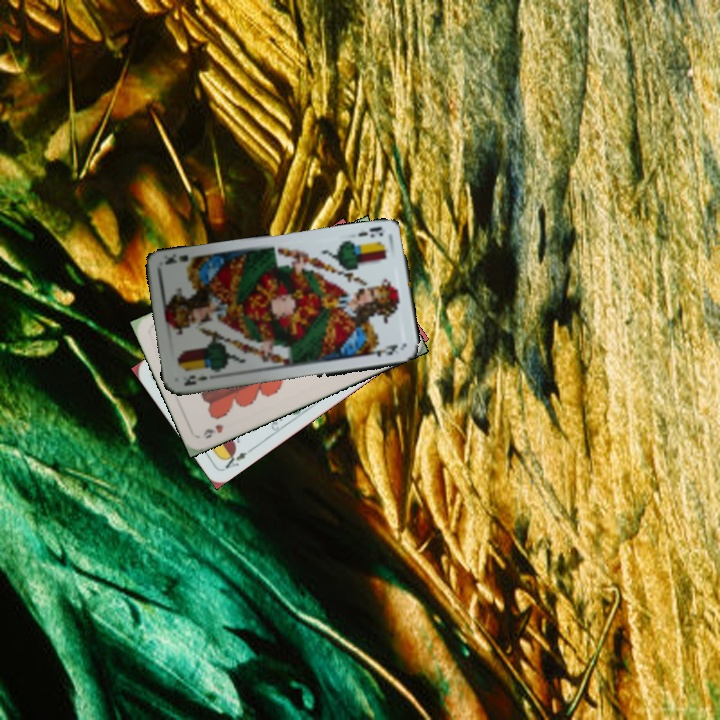EA: (218, 444, 255, 471)
EK: (354, 223, 386, 240), (180, 371, 210, 388)
H9: (199, 420, 226, 441)
